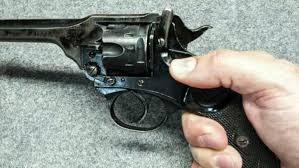gun: (2, 16, 205, 125)
